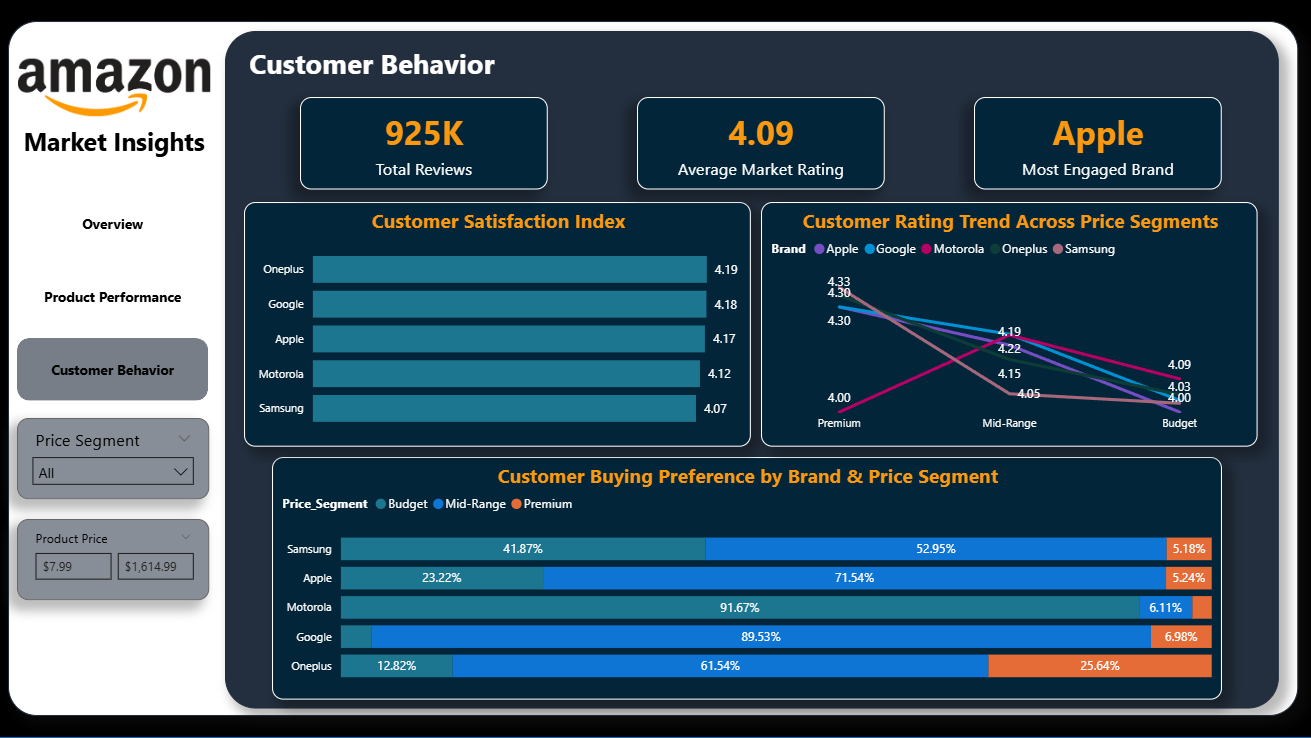

Layout of this report page (visuals, bound fields, positions):
{"tool":"powerbi","page":{"name":"Customer Behavior ","canvas":[1280,720],"ordinal":2},"visuals":[{"type":"shape","box":[0,0,1280,719.8],"z":0},{"type":"shape","box":[10.7,22.4,1254.7,676],"z":1000},{"type":"shape","box":[221.8,32.1,1025.2,659.5],"z":2000},{"type":"textbox","box":[20.4,117.7,186.7,45.7],"z":3000},{"type":"pageNavigator","box":[19.5,188.7,186.7,204.3],"z":4000},{"type":"image","box":[20.4,37,186.7,100.2],"z":5000},{"type":"textbox","box":[240.2,39.9,286.9,66.1],"z":6000},{"type":"hundredPercentStackedBarChart","title":"Customer Buying Preference by Brand & Price Segment","fields":{"Category":["phone search (1).Brand"],"Y":["Sum(phone search (1).CLeand_sales_volume)"],"Series":["phone search (1).Price_Segment"]},"box":[267.5,446.4,924,236.4],"z":7000},{"type":"barChart","title":"Customer Satisfaction Index","fields":{"Y":["Avg(phone search (1).product_star_rating)"],"Category":["phone search (1).Brand"]},"box":[240.2,198.4,493.1,238.3],"z":8000},{"type":"card","fields":{"Values":["Sum(phone search (1).product_num_ratings)"]},"box":[294.7,96.3,241.2,90.5],"z":9000},{"type":"card","fields":{"Values":["Avg(phone search (1).product_star_rating)"]},"box":[622.5,96.3,241.2,90.5],"z":10000},{"type":"card","fields":{"Values":["--Measures.Most_Engaged_Brand"]},"box":[950.3,96.3,241.2,90.5],"z":11000},{"type":"lineChart","title":"Customer Rating Trend Across Price Segments","fields":{"Category":["phone search (1).Price_Segment"],"Y":["Avg(phone search (1).product_star_rating)"],"Series":["phone search (1).Brand"]},"box":[743.1,198.4,483.4,238.3],"z":12000},{"type":"slicer","fields":{"Values":["phone search (1).Price_Segment"]},"box":[19.5,408.5,186.7,78.8],"z":12001},{"type":"slicer","fields":{"Values":["phone search (1).product_price"]},"box":[19.5,506.7,186.7,78.8],"z":12002}]}

Visuals, with their boxes in screenshot pixels (x1, y1, x2, y2), scaled from the page's 1280x720 canvas onto the 1311x738 screenshot:
shape: [left=0, top=0, right=1310, bottom=737]
shape: [left=11, top=23, right=1296, bottom=716]
shape: [left=227, top=33, right=1277, bottom=709]
textbox: [left=21, top=121, right=212, bottom=167]
pageNavigator: [left=20, top=193, right=211, bottom=403]
image: [left=21, top=38, right=212, bottom=141]
textbox: [left=246, top=41, right=540, bottom=109]
"Customer Buying Preference by Brand & Price Segment" hundredPercentStackedBarChart: [left=274, top=458, right=1220, bottom=700]
"Customer Satisfaction Index" barChart: [left=246, top=203, right=751, bottom=448]
card - Sum(phone search (1).product_num_ratings): [left=302, top=99, right=549, bottom=191]
card - Avg(phone search (1).product_star_rating): [left=638, top=99, right=885, bottom=191]
card - --Measures.Most_Engaged_Brand: [left=973, top=99, right=1220, bottom=191]
"Customer Rating Trend Across Price Segments" lineChart: [left=761, top=203, right=1256, bottom=448]
slicer - phone search (1).Price_Segment: [left=20, top=419, right=211, bottom=499]
slicer - phone search (1).product_price: [left=20, top=519, right=211, bottom=600]
